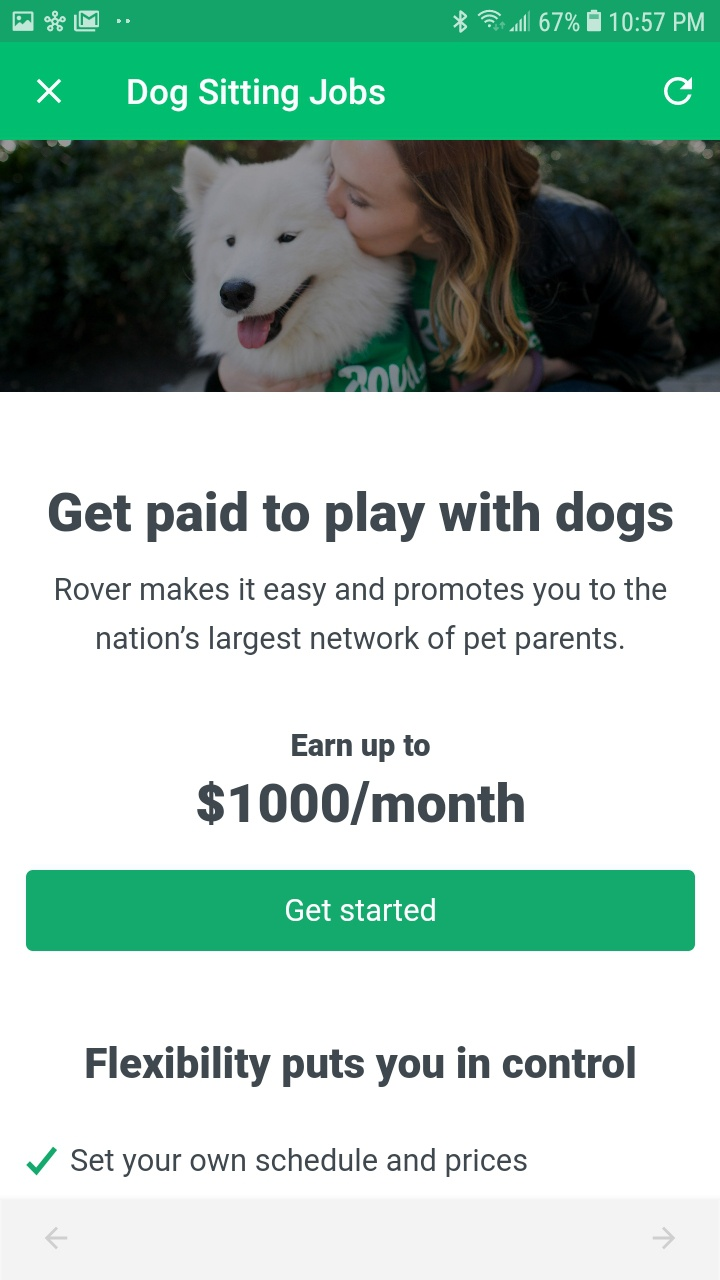Icon: (27, 1147, 59, 1176), (663, 77, 693, 107), (37, 79, 62, 105), (46, 1227, 69, 1250), (653, 1227, 676, 1250)
Image: (1, 141, 720, 393)
Text: (56, 577, 667, 656), (50, 490, 674, 543), (87, 1046, 636, 1088), (197, 781, 525, 826), (72, 1147, 528, 1178), (128, 77, 386, 113), (292, 733, 431, 763)
TextButton: (27, 870, 696, 952)
UpperTaskBar: (1, 1, 720, 43)
